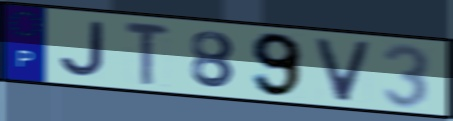3: (382, 41, 435, 112)
8: (190, 29, 237, 90)
9: (248, 31, 307, 99)
J: (56, 19, 107, 79)
T: (123, 19, 174, 88)
V: (313, 37, 375, 104)
